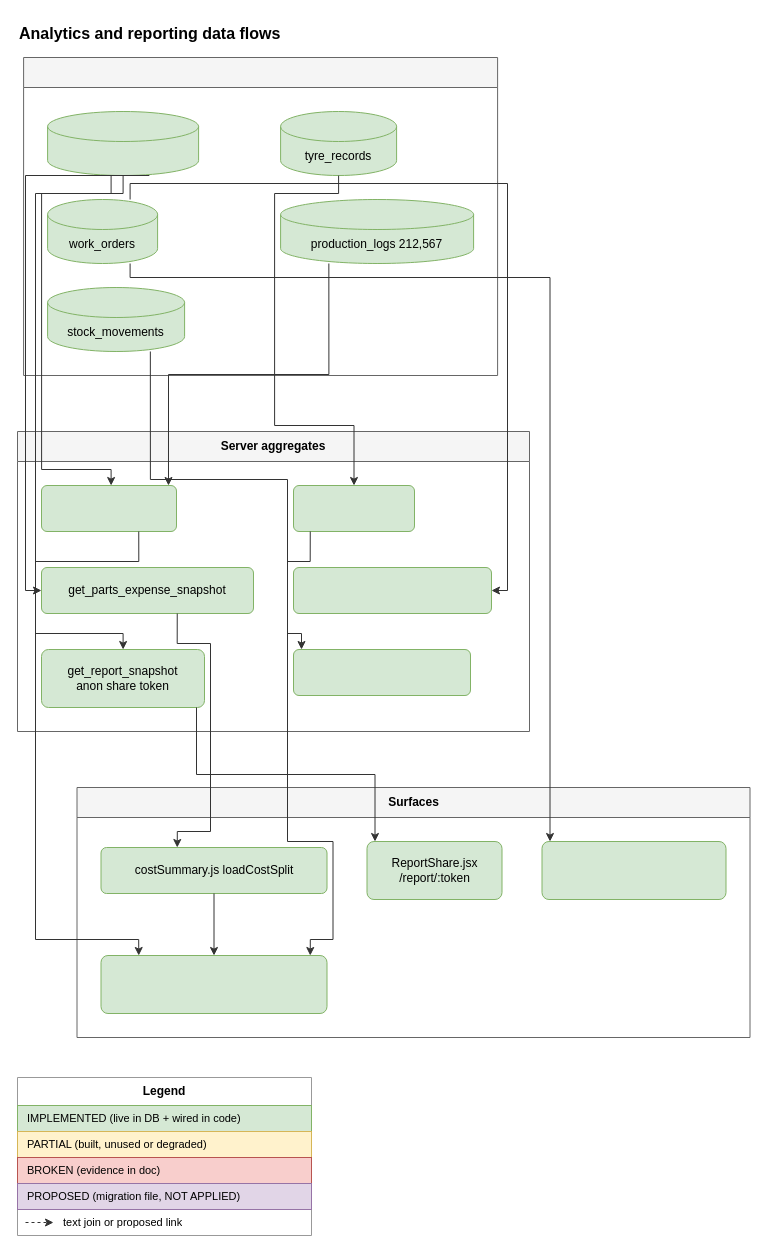
This 768x1253 diagram has some shape labels left out. The shapes that lost their labels are listed below. From the top down, each one's box as (x1, y1, x2, y2) in pixels, then its label:
(47, 110, 199, 176): parts_consumption
(23, 56, 498, 376): Source tables
(40, 484, 176, 532): get_cost_per_m3
(292, 484, 414, 532): get_fleet_cpk
(292, 566, 492, 614): get_maintenance_snapshot
(292, 648, 470, 696): inv_valuation_summary
(541, 840, 726, 900): send-scheduled-reports edge fn
(100, 954, 327, 1014): CostPerM3, CpkIntelligence, ExpenseReport, BoardOverview
